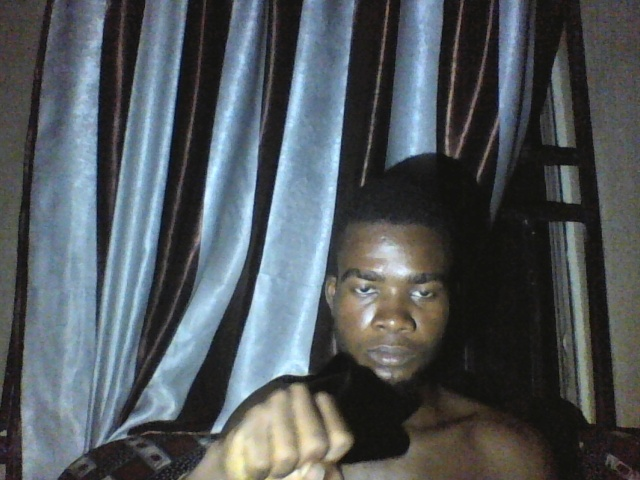yes: (215, 378, 355, 480)
